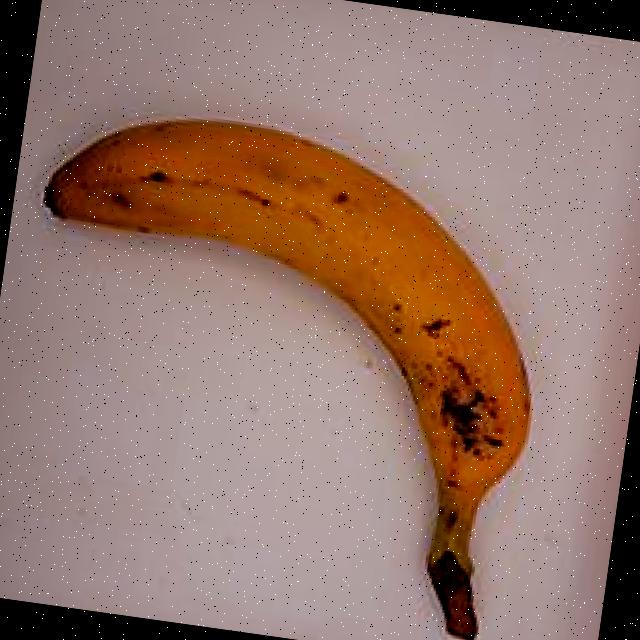Overripe: (0, 33, 581, 640)
